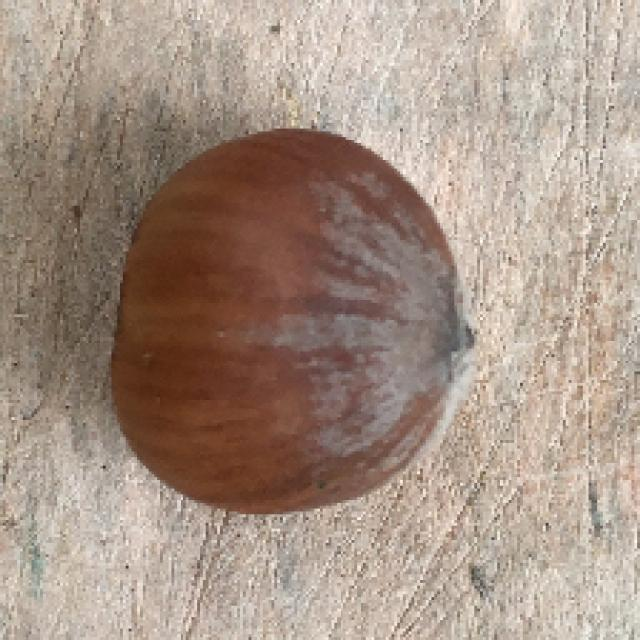qualityHazelnut: (101, 122, 479, 528)
